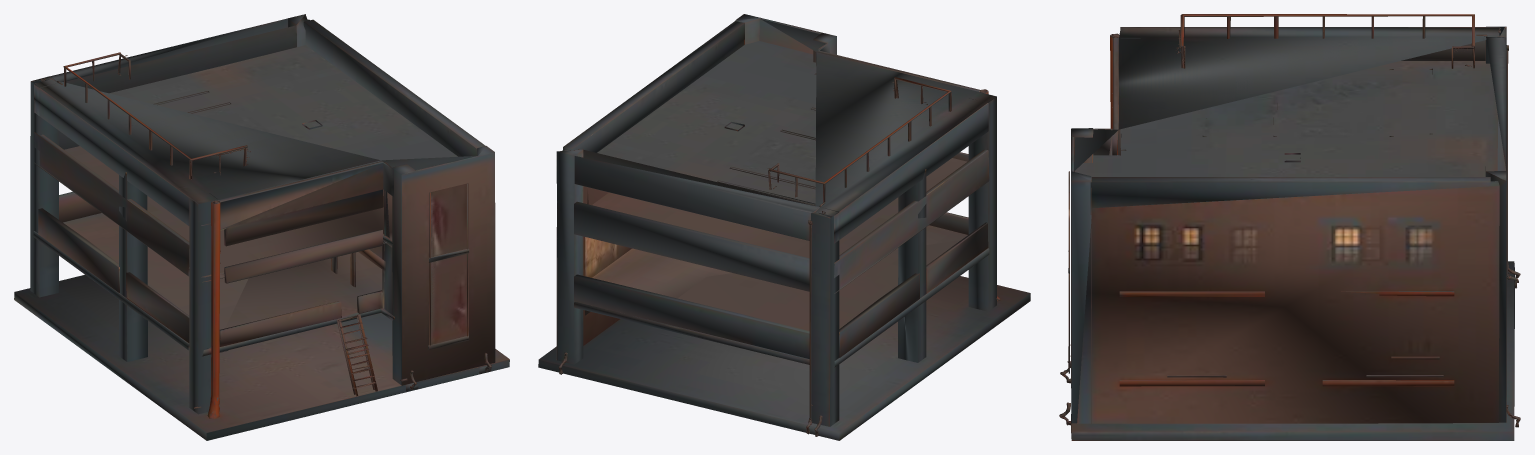
The picture shows the model from 3 angles, left to right: view 1: azimuth 30°, elevation 25°; view 2: azimuth 150°, elevation 25°; view 3: azimuth 270°, elevation 25°; orthographic projection. The views are drawn at different scales.
Bounding box in the file's own units: 0.8272 × 0.624 × 0.9482.
Materials: 1 (1 with a texture image).
